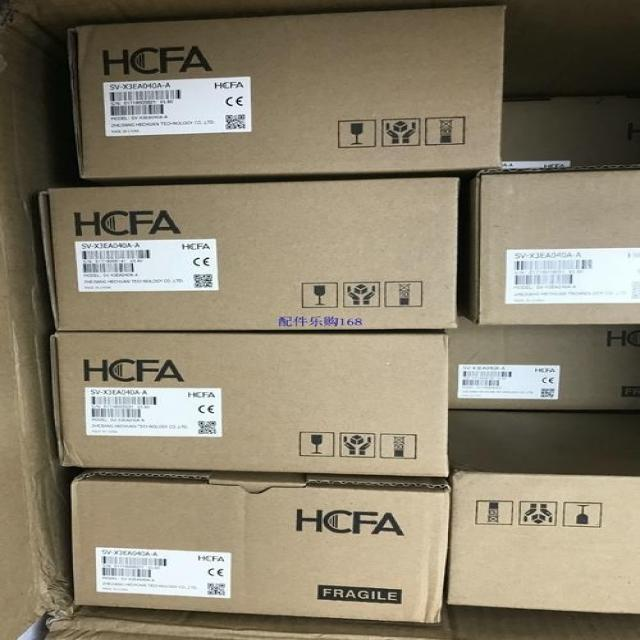box: (42, 177, 460, 329), (73, 468, 451, 623), (52, 331, 446, 477), (457, 168, 639, 324), (448, 472, 639, 613), (447, 311, 639, 410)
